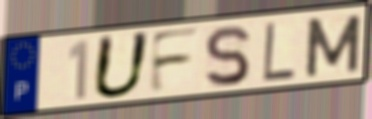1: (67, 38, 90, 101)
F: (147, 25, 203, 96)
L: (261, 19, 298, 83)
M: (303, 12, 364, 79)
S: (202, 23, 253, 89)
U: (89, 30, 154, 101)
